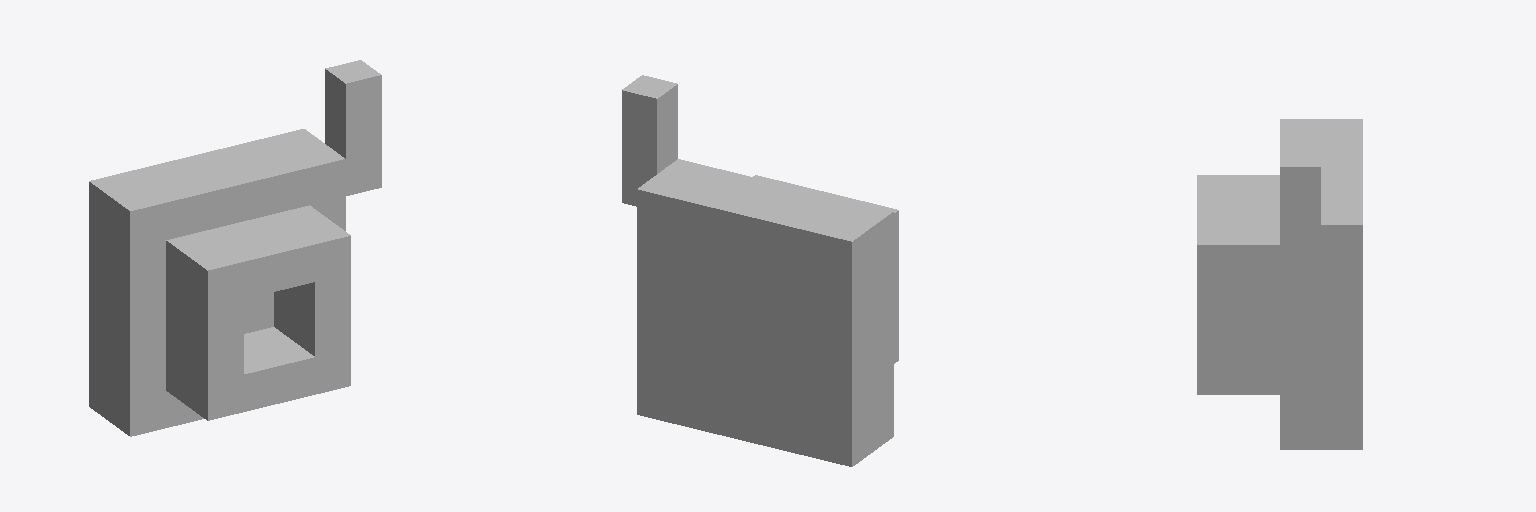
The model's file is laserPurple.obj.
The picture shows the model from 3 angles: view 1: azimuth 30°, elevation 25°; view 2: azimuth 150°, elevation 25°; view 3: azimuth 270°, elevation 25°; orthographic projection.
Parts seen in each view (by area): view 1: object 1; view 2: object 1; view 3: object 1.
Part boxes in pixels (left/top/right/bottom): object 1: left=89, top=60, right=381, bottom=436; object 1: left=622, top=75, right=898, bottom=466; object 1: left=1197, top=119, right=1362, bottom=449.
Size of the model in its own units: 0.7 by 0.8 by 0.4.